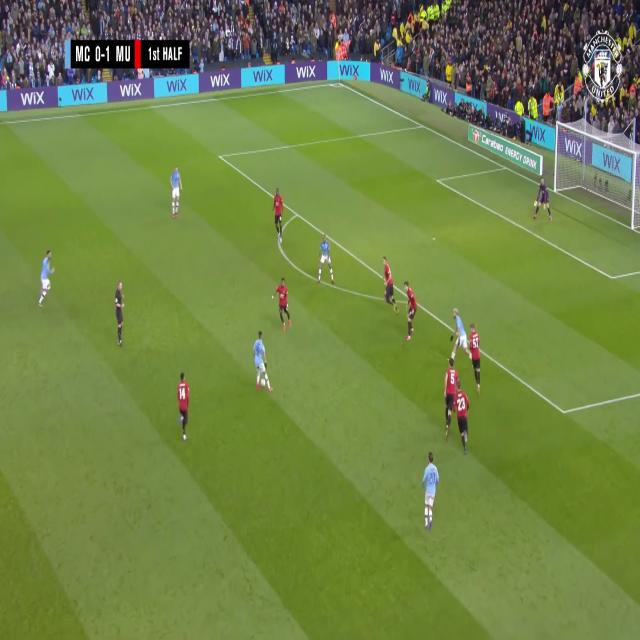Ball: (262, 376, 266, 388)
GoalKeeper: (532, 179, 553, 222)
TEAM 1: (467, 320, 483, 390), (177, 372, 192, 440), (445, 358, 458, 435), (402, 282, 418, 344), (454, 384, 467, 451), (274, 280, 290, 329), (383, 257, 397, 309), (273, 189, 285, 241)
TEAM 2: (422, 452, 438, 532), (254, 334, 273, 395), (38, 249, 55, 310), (316, 235, 334, 287), (452, 307, 468, 348), (170, 167, 182, 218)
